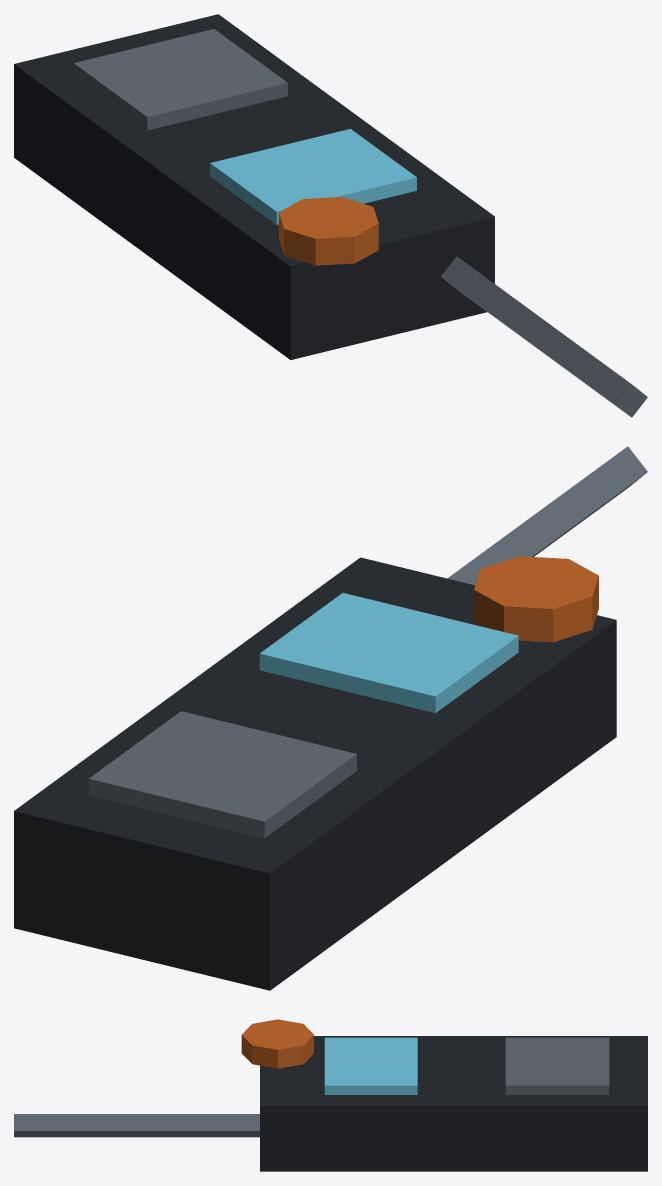
File: commlink.lod.glb
3 renders of one model, top to bottom at view 1: azimuth 30°, elevation 25°; view 2: azimuth 150°, elevation 25°; view 3: azimuth 270°, elevation 25°, orthographic. The views are drawn at different scales.
Visible parts, largest first — view 1: m; view 2: m; view 3: m.
Part boxes in pixels (box(x1,y1,x2,y2)): m: box(14, 14, 647, 417); m: box(14, 446, 647, 990); m: box(14, 1019, 647, 1171).
Size of the model in its own units: 0.0287 by 0.0162 by 0.11.
